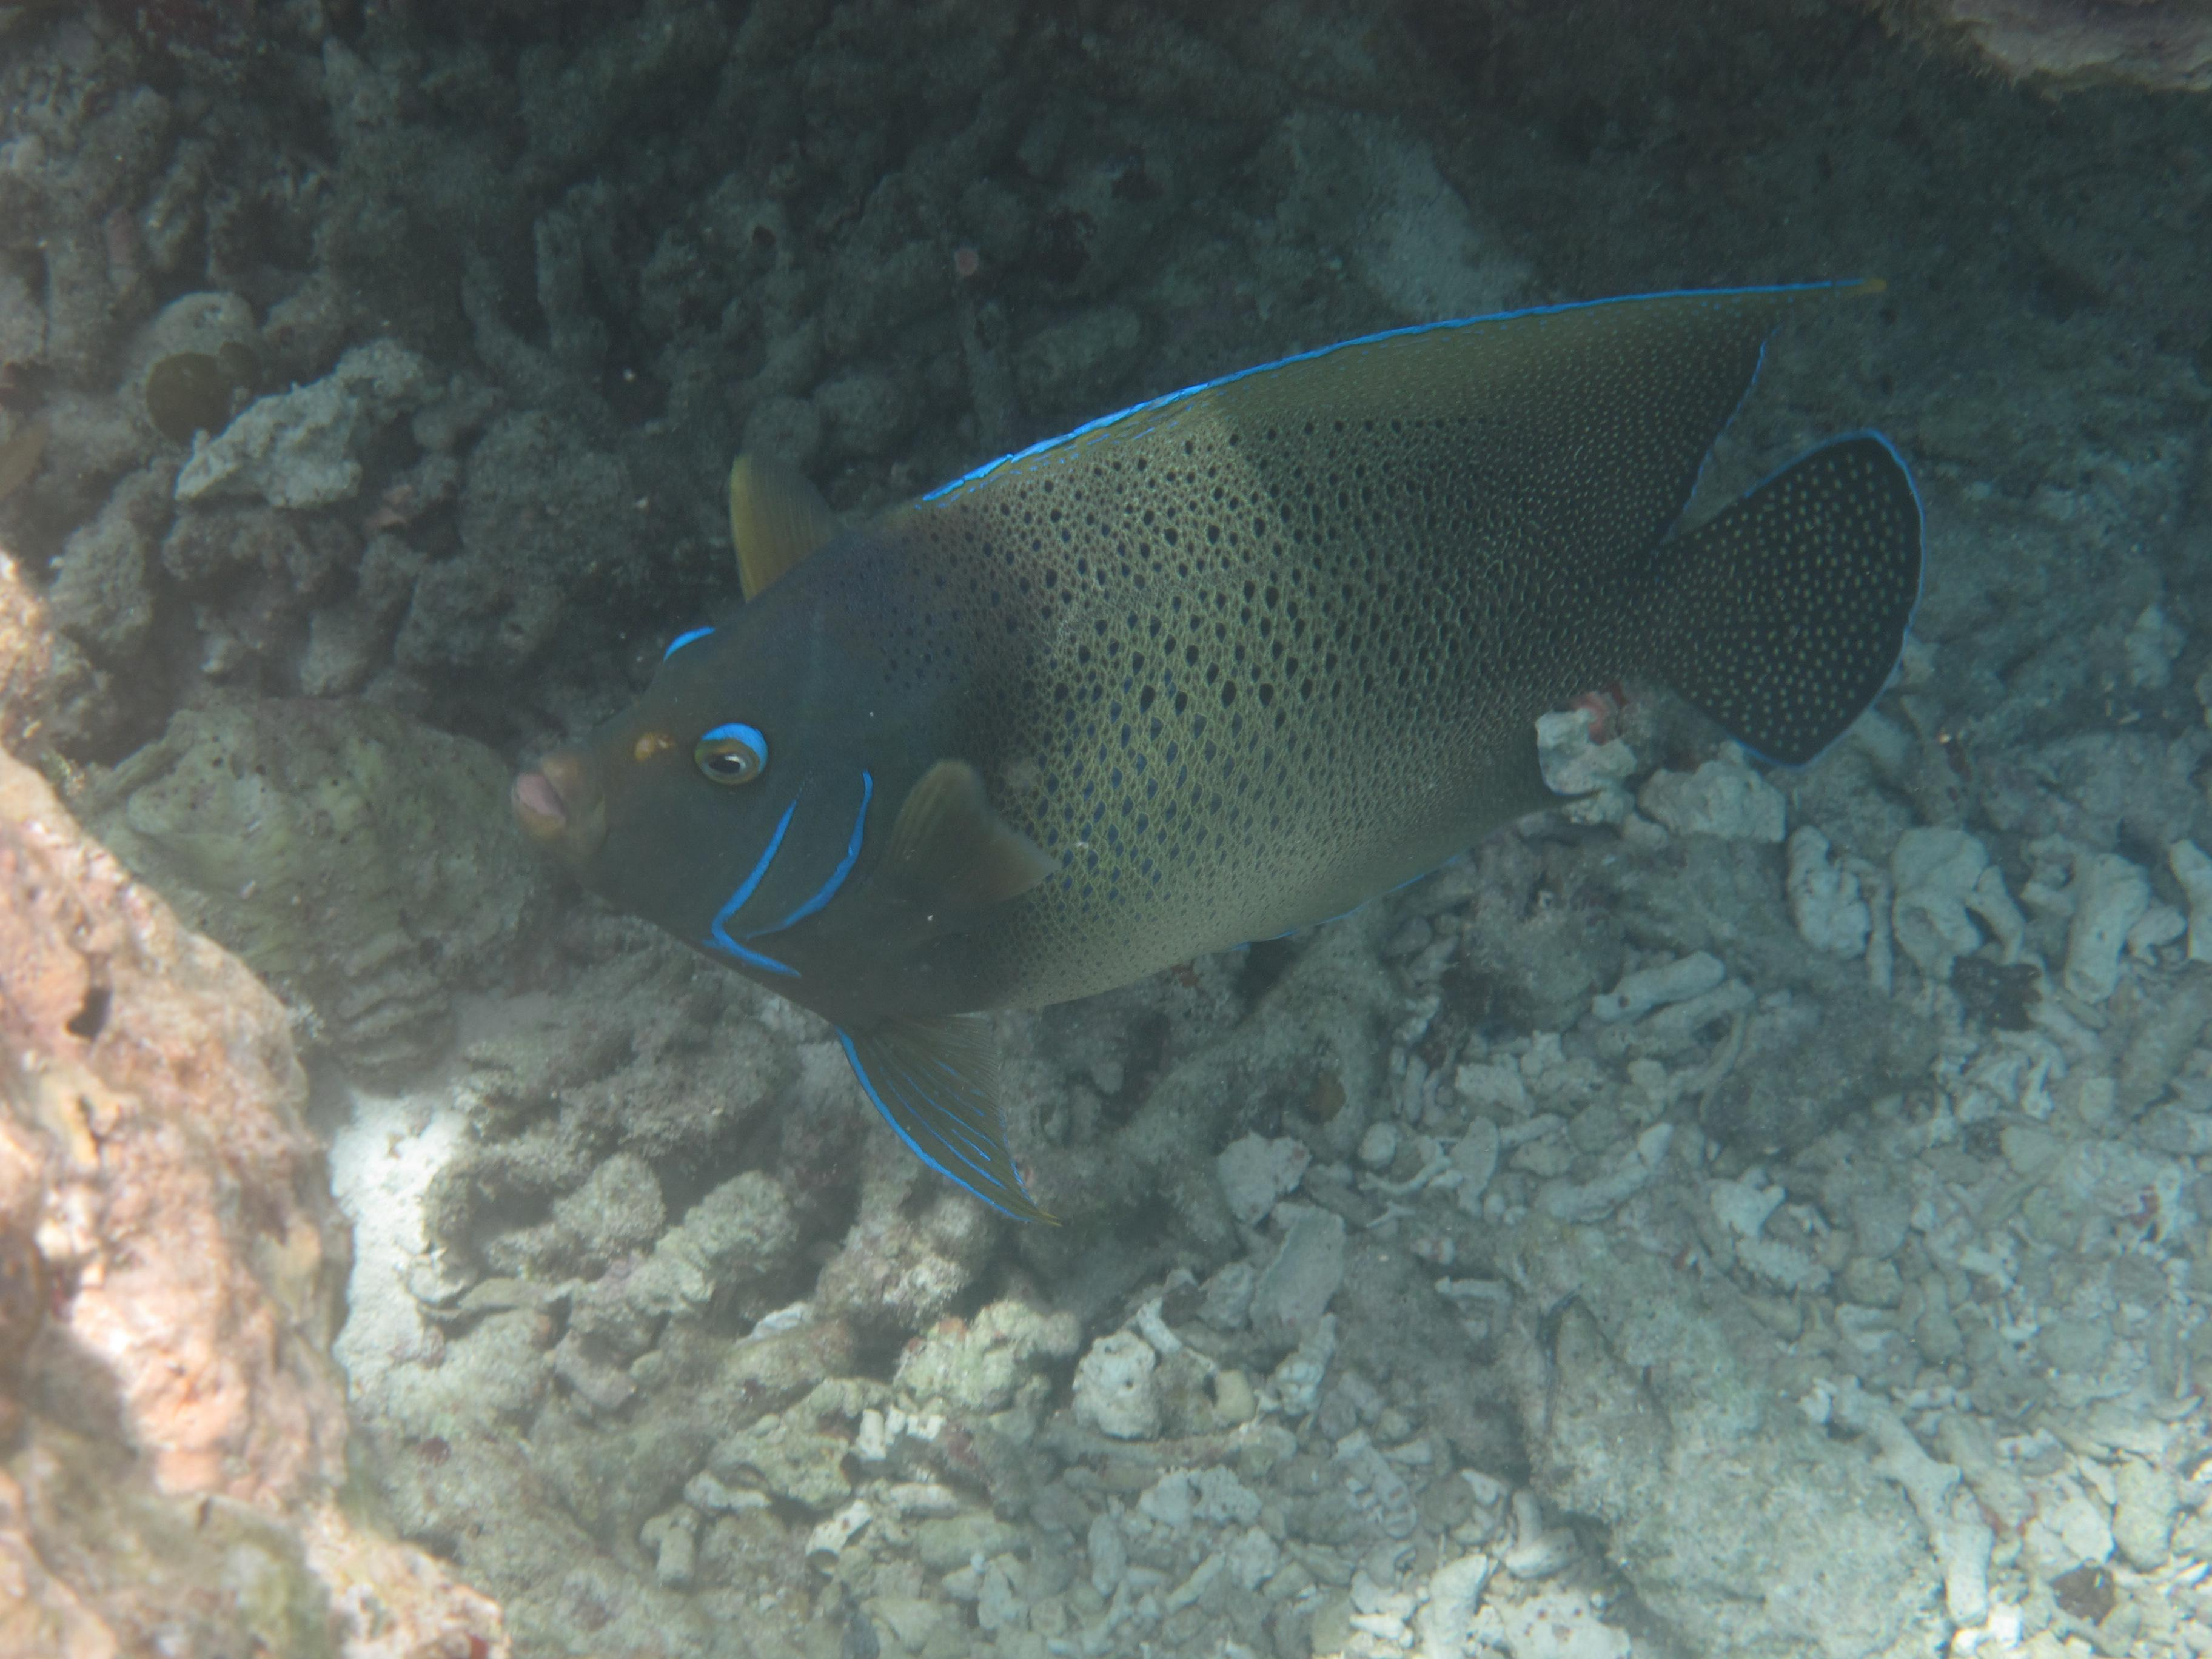Pomacanthus semicirculatus: (395, 256, 2054, 1253)
